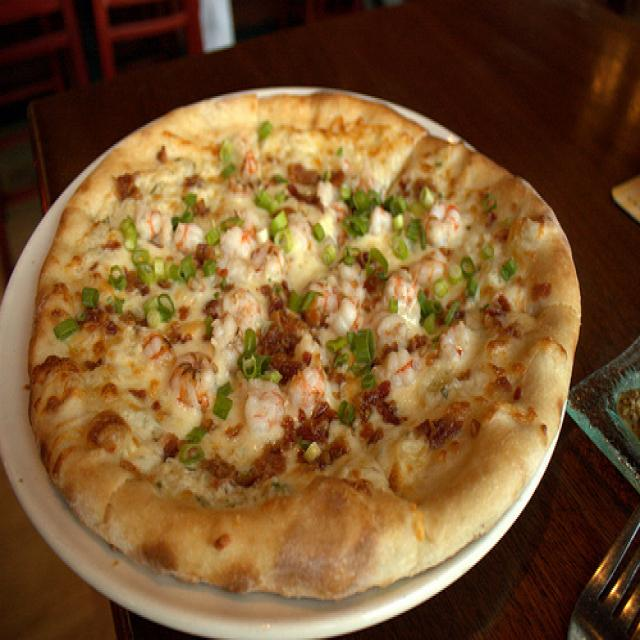chair: (90, 0, 204, 82)
dining table: (3, 7, 640, 632)
